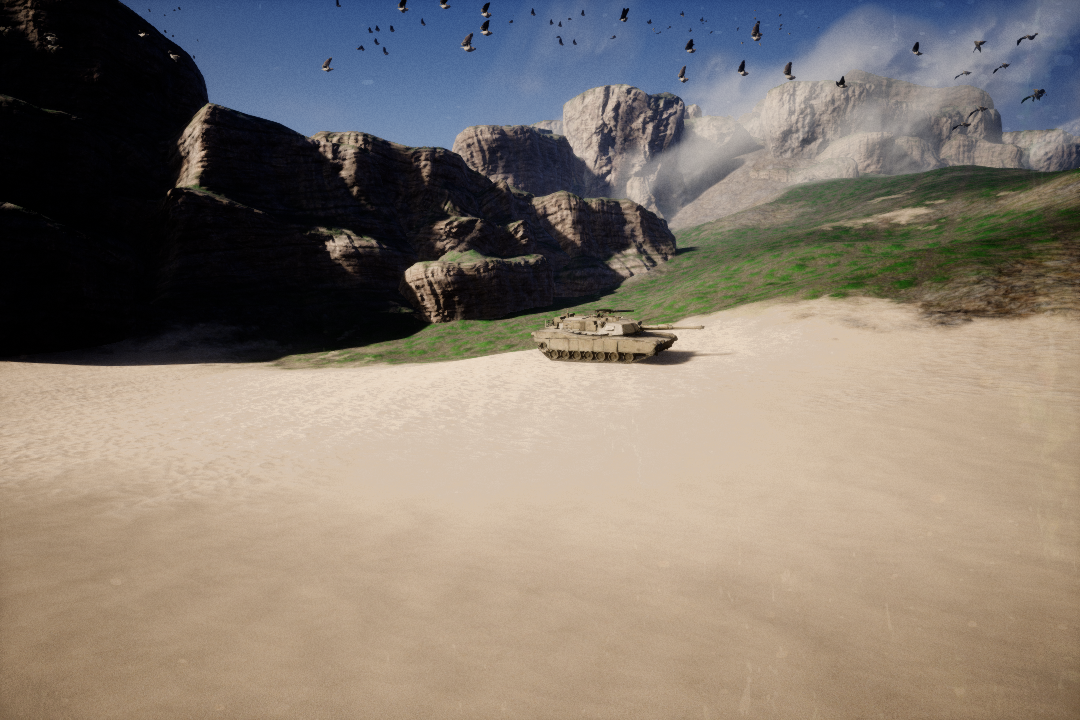tank: (527, 305, 707, 367)
